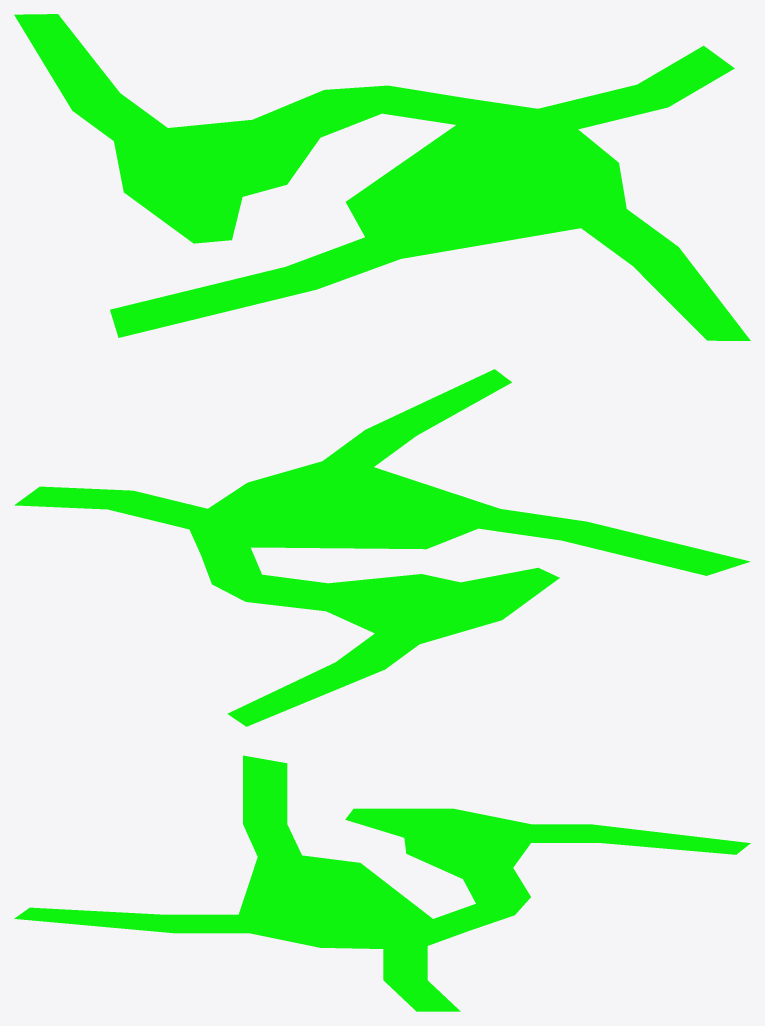
The model's file is s01a_xb2-floor.glb.
3 views of the same model, one above another, from view 1: azimuth 30°, elevation 25°; view 2: azimuth 150°, elevation 25°; view 3: azimuth 270°, elevation 25° (orthographic). The views are drawn at different scales.
Parts seen in each view (by area): view 1: collision_floor-colonly; view 2: collision_floor-colonly; view 3: collision_floor-colonly.
Part boxes in pixels (x1,y1,x2,y2): collision_floor-colonly: (14, 14, 750, 340); collision_floor-colonly: (14, 369, 750, 726); collision_floor-colonly: (14, 755, 750, 1011).
Size of the model in its own units: 81.98 by 0 by 99.73.
